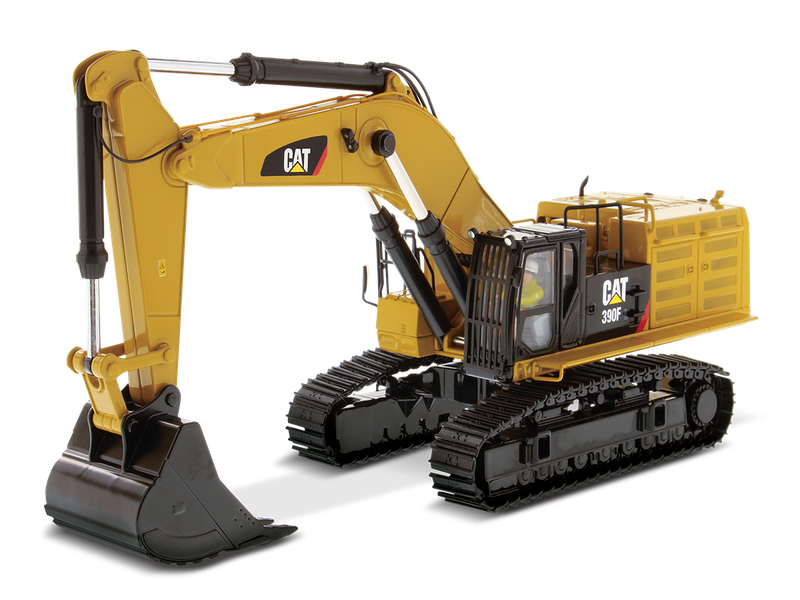shovel: (35, 45, 761, 577)
